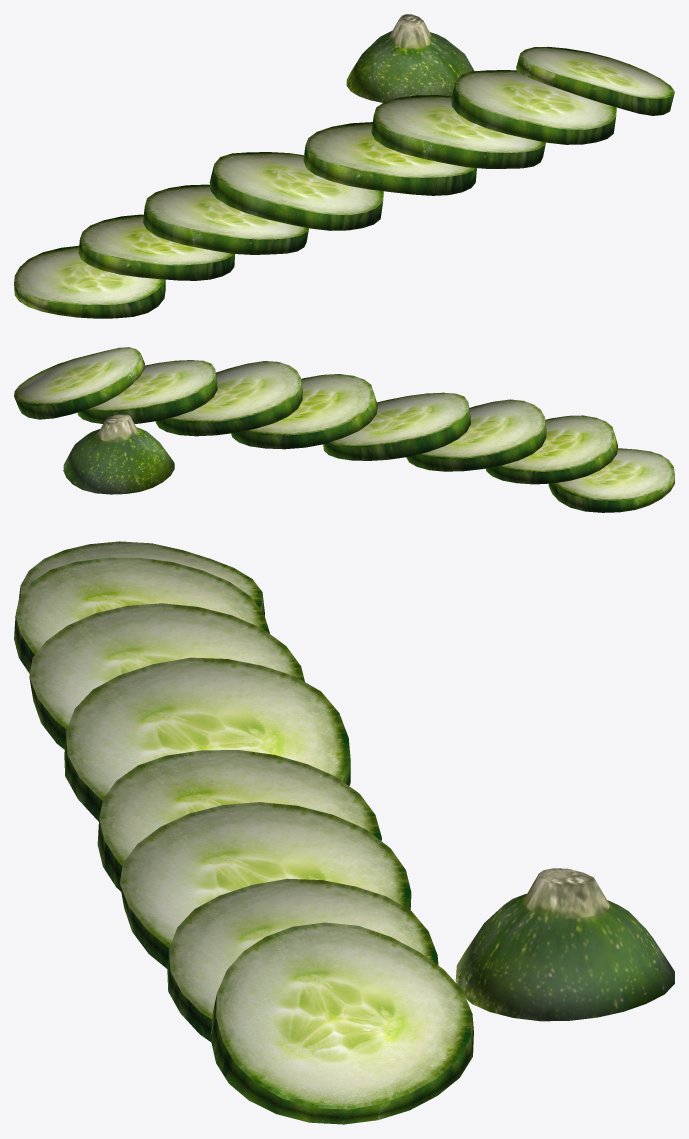
File: _ucumber2.fbx
3 views of the same model, one above another, from view 1: azimuth 30°, elevation 25°; view 2: azimuth 150°, elevation 25°; view 3: azimuth 270°, elevation 25° (orthographic). The views are drawn at different scales.
Visible parts, largest first — view 1: Cucumber; view 2: Cucumber; view 3: Cucumber.
Boxes of the visible parts, x1,y1,x2,y2 form: Cucumber: [14, 14, 674, 318]; Cucumber: [14, 347, 674, 512]; Cucumber: [14, 541, 674, 1124].
Bounding box in the file's own units: 477 × 42.6 × 239.
1 material, 1 textured.
